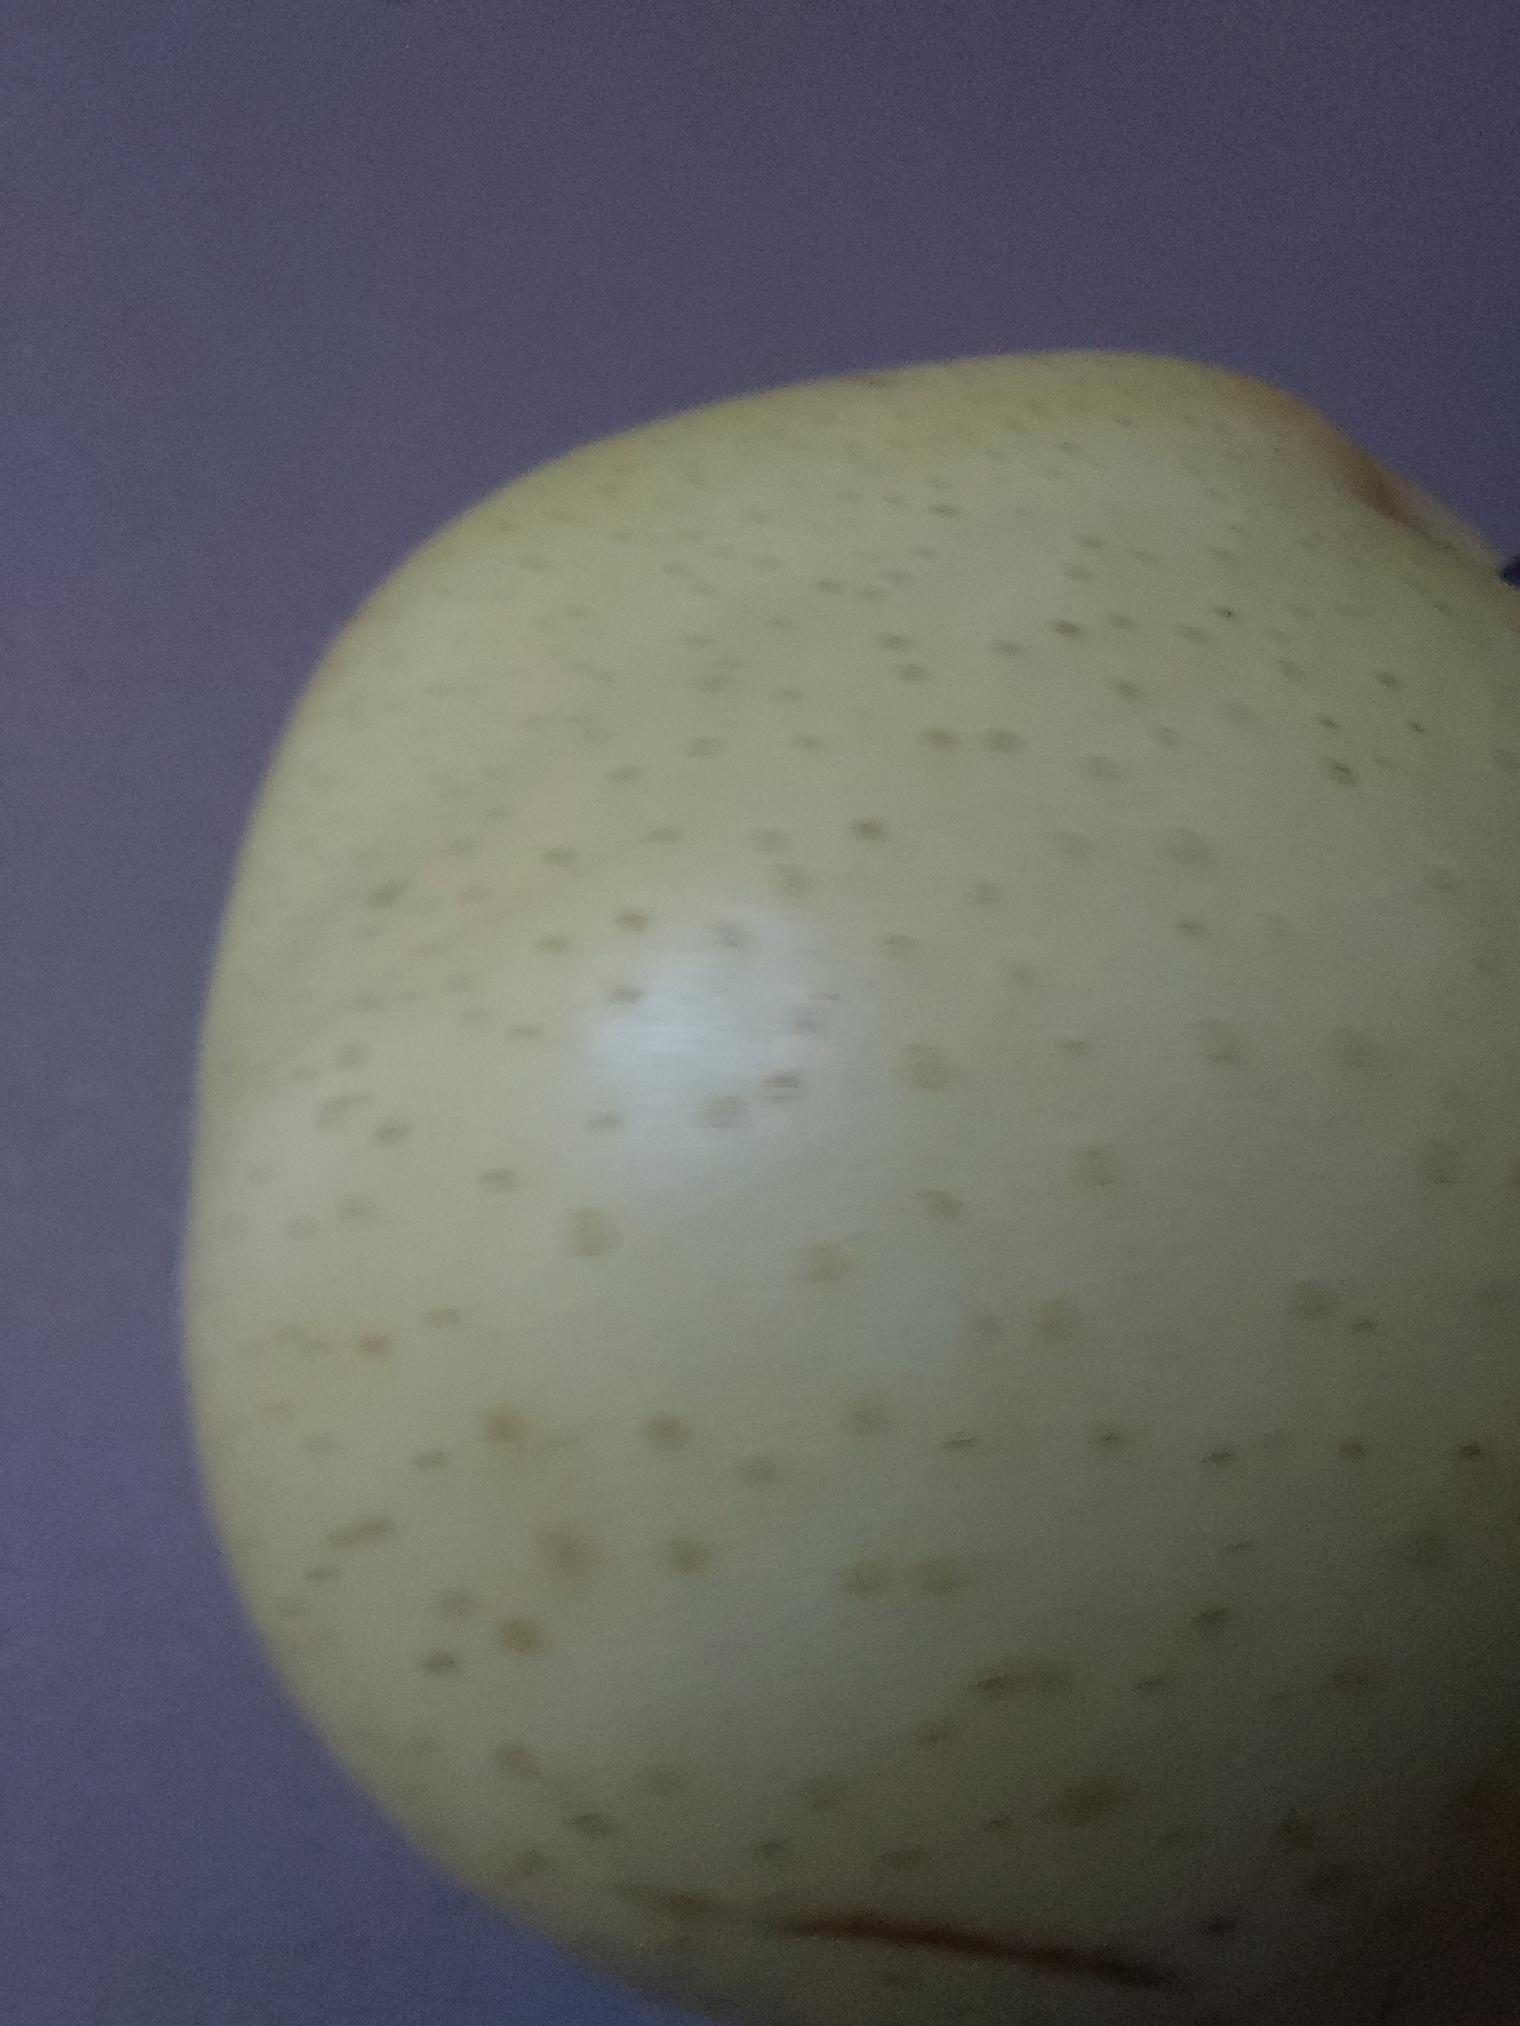Good Pear: (192, 334, 1520, 2026)
